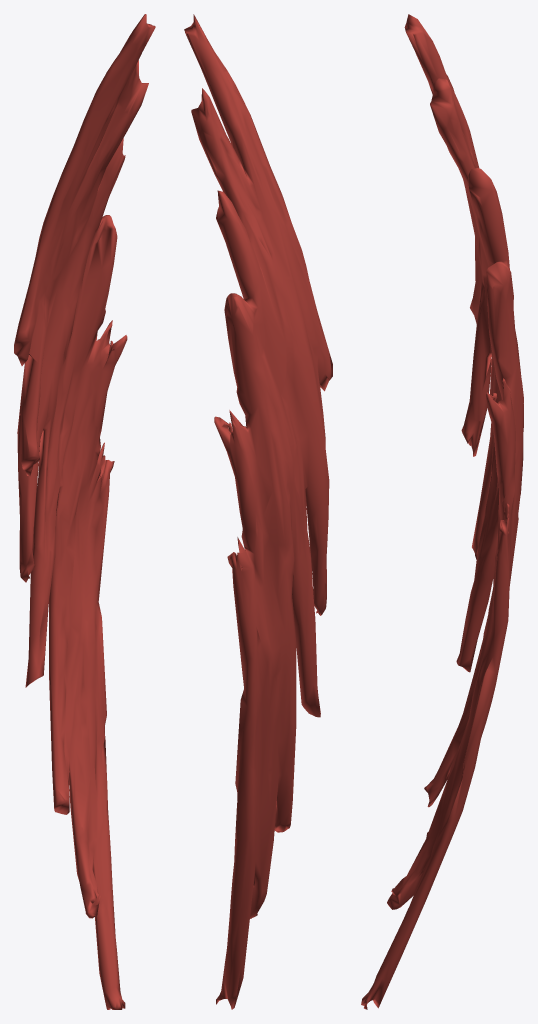
File: musculos-semispinalis-thoracis-muscle-r.glb
3 renders of one model, left to right at view 1: azimuth 30°, elevation 25°; view 2: azimuth 210°, elevation 25°; view 3: azimuth 270°, elevation 25°, orthographic. The views are drawn at different scales.
Visible parts, largest first — view 1: Semispinalis thoracis muscle.r; view 2: Semispinalis thoracis muscle.r; view 3: Semispinalis thoracis muscle.r.
Part boxes in pixels (x1,y1,x2,y2): Semispinalis thoracis muscle.r: (14, 14, 155, 1009); Semispinalis thoracis muscle.r: (184, 14, 332, 1009); Semispinalis thoracis muscle.r: (361, 14, 523, 1009).
Bounding box in the file's own units: 0.0354 × 0.2809 × 0.0406.
